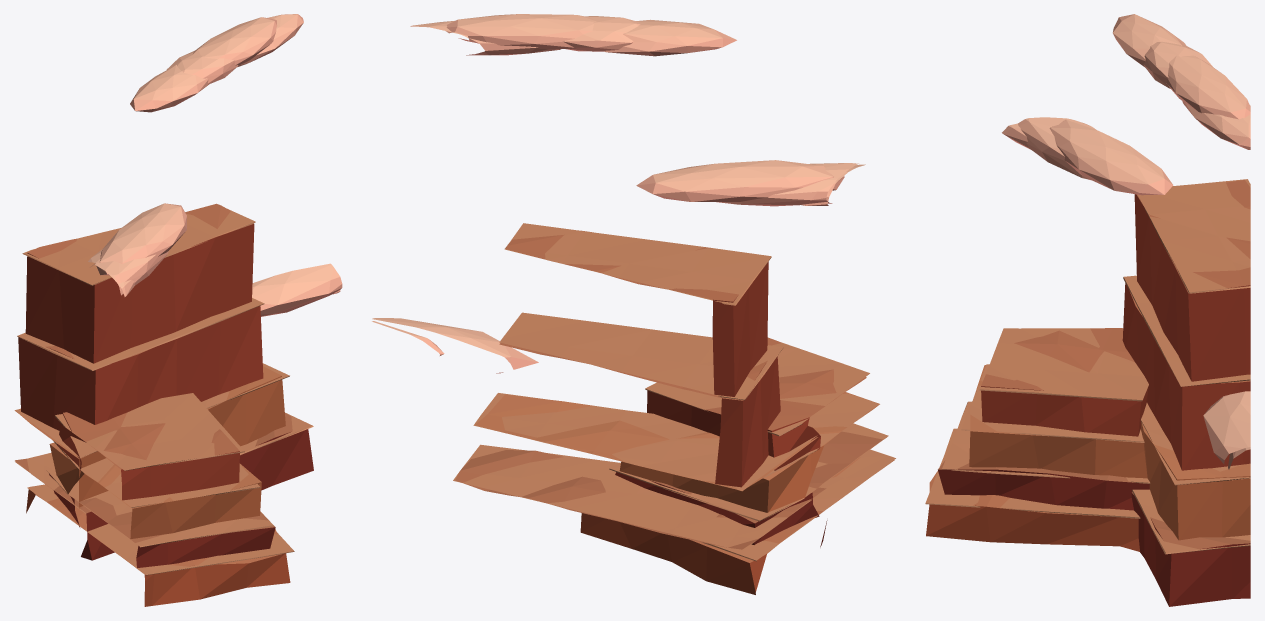
3 views of the same model, side by side, from view 1: azimuth 30°, elevation 25°; view 2: azimuth 150°, elevation 25°; view 3: azimuth 270°, elevation 25° (orthographic). The views are drawn at different scales.
Parts seen in each view (by area): view 1: scene.2.1 (×2); view 2: scene.2.1 (×2); view 3: scene.2.1 (×2).
Boxes of the visible parts, <box> form: scene.2.1 (×2): <box>14,14,342,606</box>; scene.2.1 (×2): <box>372,14,895,594</box>; scene.2.1 (×2): <box>925,14,1250,606</box>.
Size of the model in its own units: 62.5 by 83.53 by 49.33.
